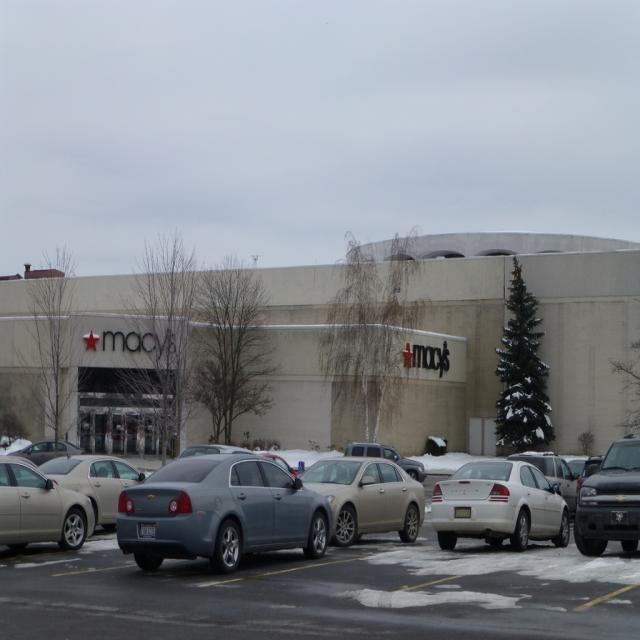car: (114, 451, 334, 577), (429, 451, 575, 550)
